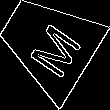M_NW: (16, 10, 79, 76)
